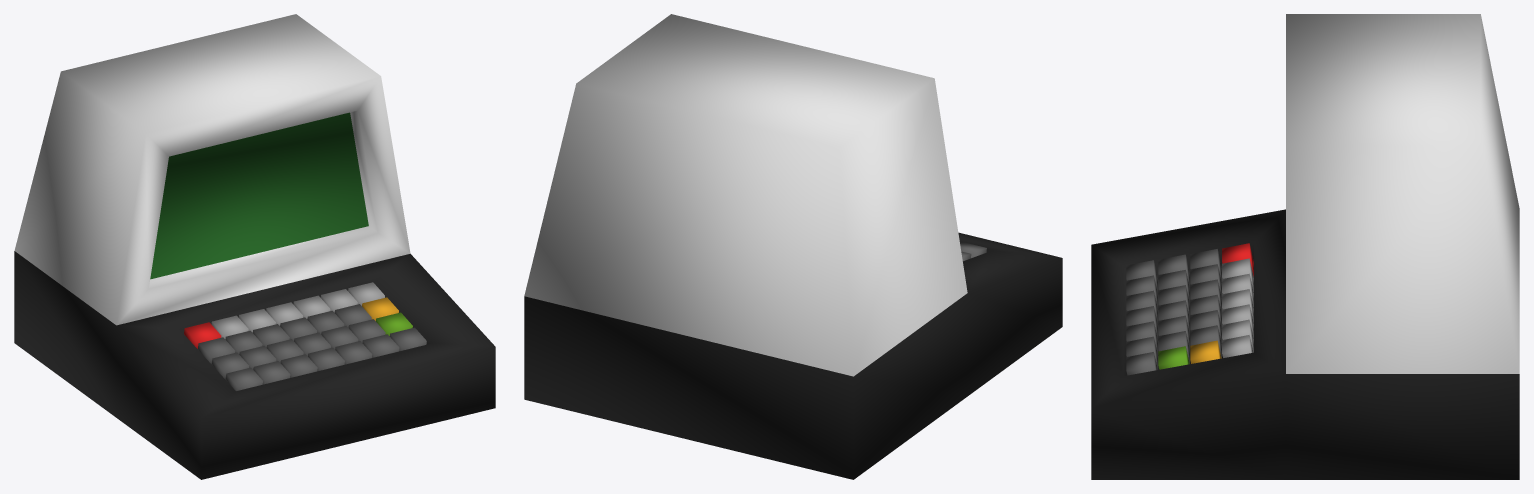
Rendered from computer.glb.
The picture shows the model from 3 angles, left to right: view 1: azimuth 30°, elevation 25°; view 2: azimuth 150°, elevation 25°; view 3: azimuth 270°, elevation 25°; orthographic projection. The views are drawn at different scales.
Parts seen in each view (by area): view 1: Cube, Cube.001; view 2: Cube; view 3: Cube, Cube.001.
Boxes of the visible parts, <box> form: Cube: <box>14,14,495,479</box>; Cube.001: <box>184,282,426,390</box>; Cube: <box>524,14,1062,479</box>; Cube: <box>1091,14,1519,479</box>; Cube.001: <box>1126,243,1253,375</box>.
Bounding box in the file's own units: 0.5927 × 0.5335 × 0.652.
1 material, 1 textured.
